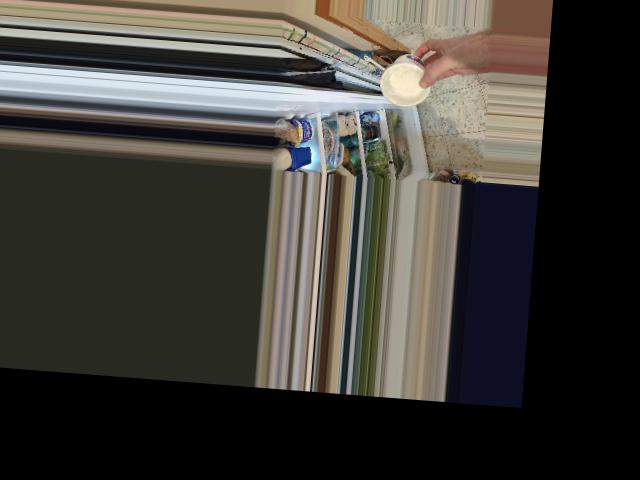cotage: (378, 46, 430, 103)
